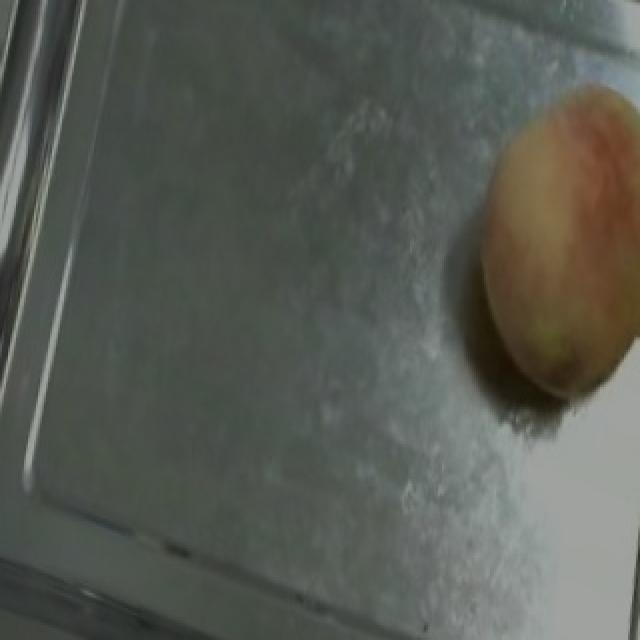Fruit: (434, 57, 640, 429)
